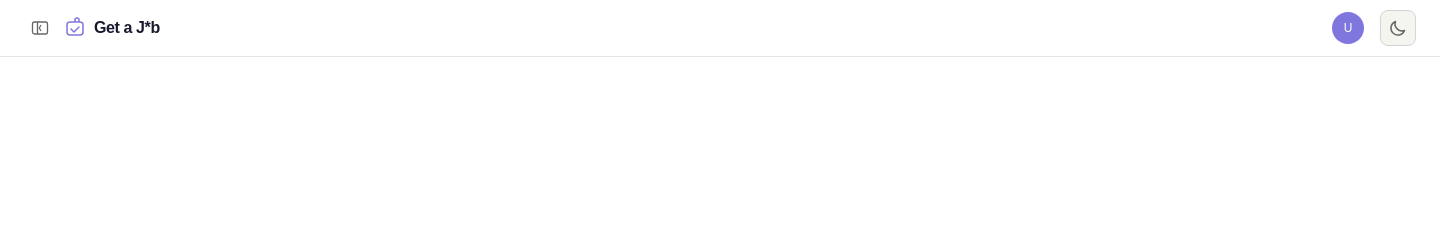
Test case: Header › logout › disables the button while logging out
Click the button "U" at (1348, 28), box [1332, 12, 1364, 44]
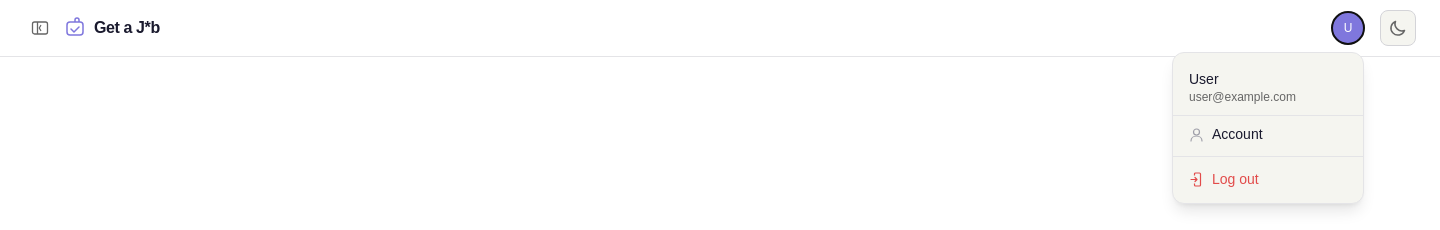
Click the button "Log out" at (1268, 179), box [1173, 161, 1363, 197]
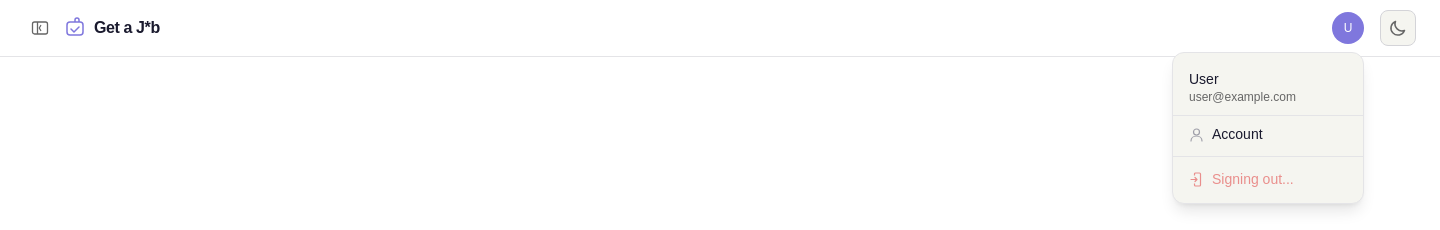
expect the button "Signing out..." is shown: met, box [1173, 161, 1363, 197]
